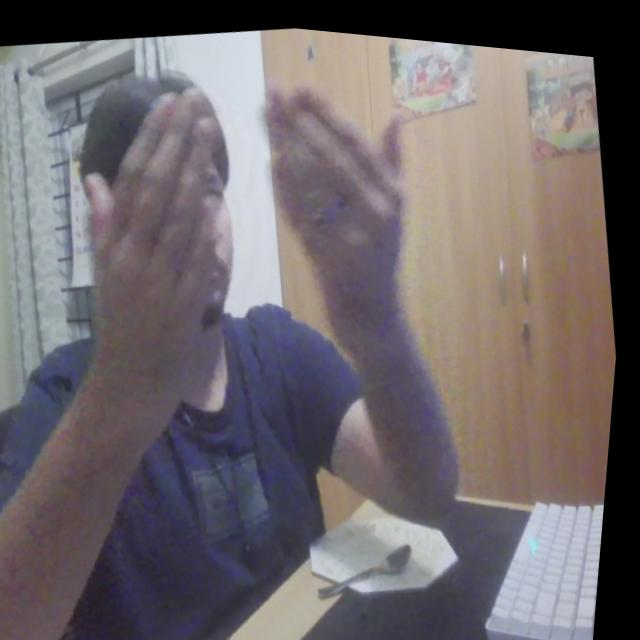thankyou: (51, 34, 462, 453)
